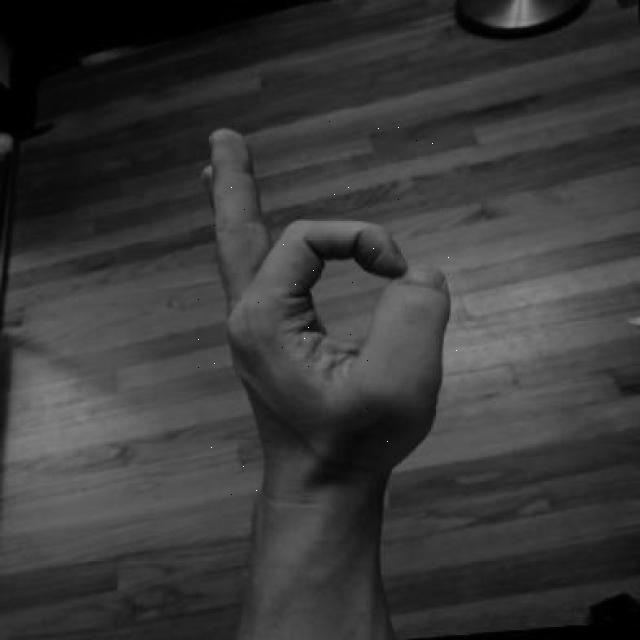F: (193, 110, 465, 502)
